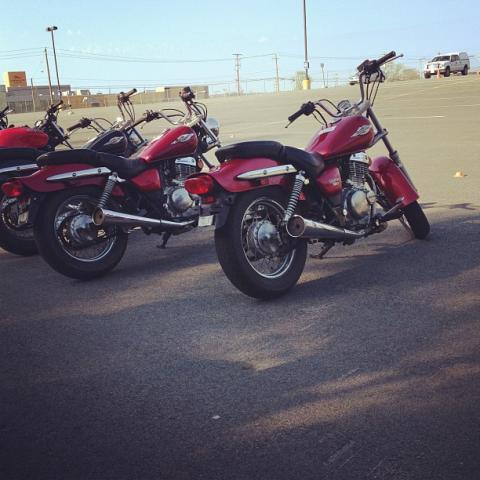car: (348, 70, 386, 86)
motorcycle: (183, 49, 431, 299), (25, 91, 220, 278), (0, 86, 151, 253), (0, 97, 73, 145), (0, 105, 14, 131)
truck: (423, 52, 471, 79)
